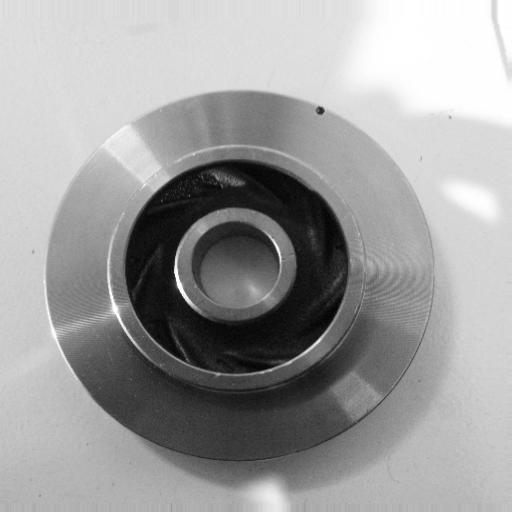pit: (310, 100, 330, 120)
unpolished_casting: (39, 88, 438, 466)
